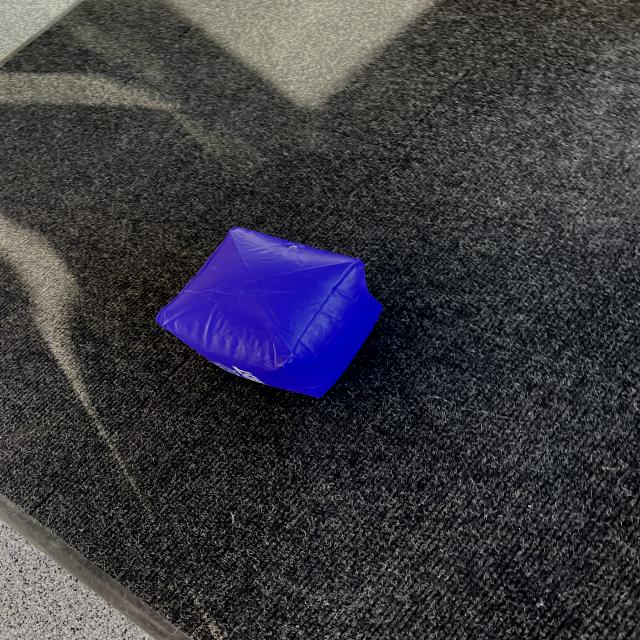frc_cube: (162, 222, 384, 406)
